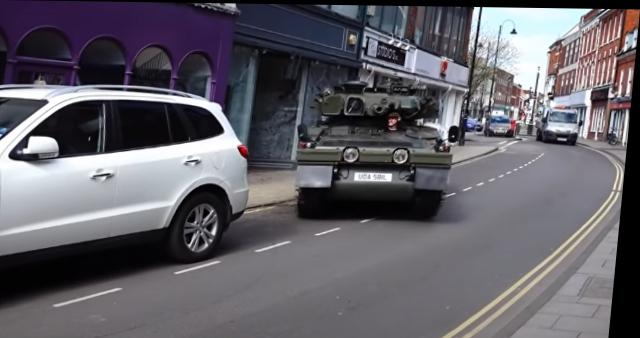tank: (305, 88, 457, 215)
